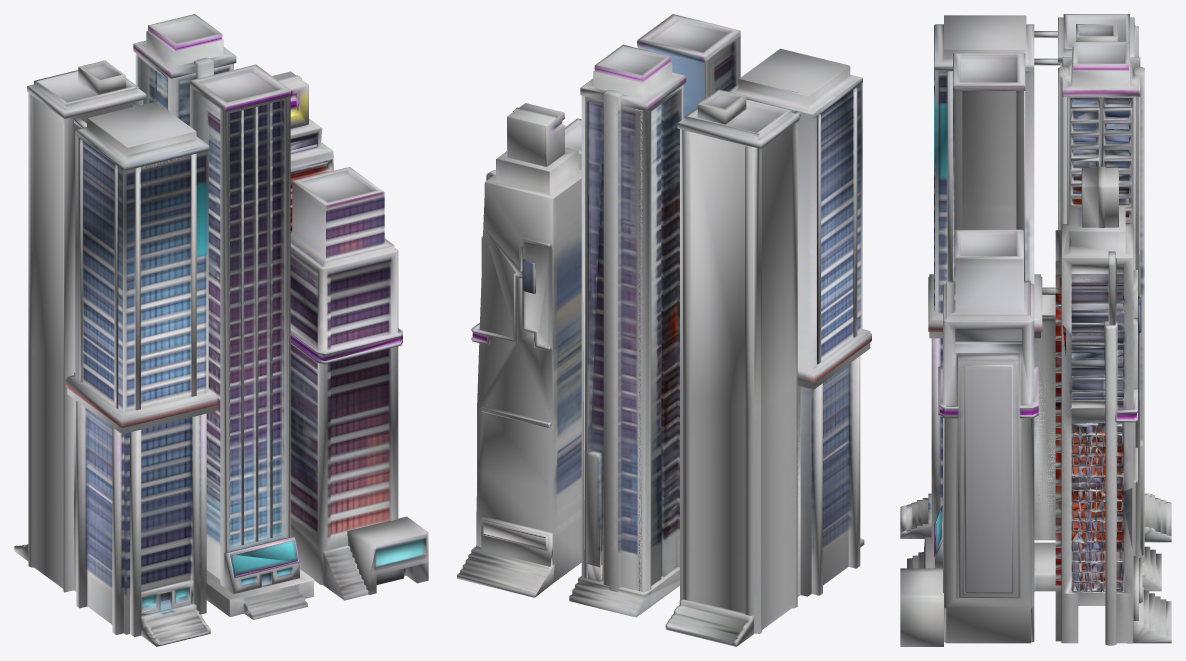
Rendered from highrise.glb.
3 renders of one model, left to right at view 1: azimuth 30°, elevation 25°; view 2: azimuth 150°, elevation 25°; view 3: azimuth 270°, elevation 25°, orthographic. The views are drawn at different scales.
Visible parts, largest first — view 1: tripo_node_6d167be3-5c6b-4236-bb5d-bf55cecb4318; view 2: tripo_node_6d167be3-5c6b-4236-bb5d-bf55cecb4318; view 3: tripo_node_6d167be3-5c6b-4236-bb5d-bf55cecb4318.
Part boxes in pixels (x1=…): tripo_node_6d167be3-5c6b-4236-bb5d-bf55cecb4318: x1=14, y1=14, x2=428, y2=646; tripo_node_6d167be3-5c6b-4236-bb5d-bf55cecb4318: x1=457, y1=14, x2=871, y2=646; tripo_node_6d167be3-5c6b-4236-bb5d-bf55cecb4318: x1=900, y1=14, x2=1171, y2=646.
Bounding box in the file's own units: 0.5957 × 0.998 × 0.4707.
1 material, 1 textured.
